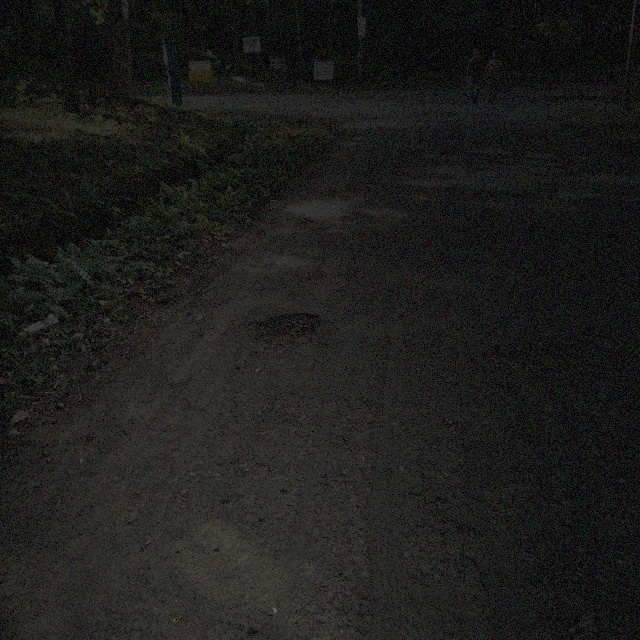pothole: (241, 308, 320, 354), (502, 337, 566, 371)
